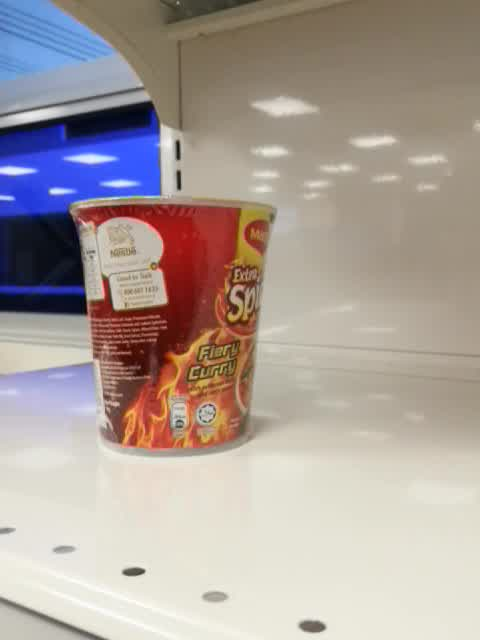maggi: (69, 196, 277, 459)
